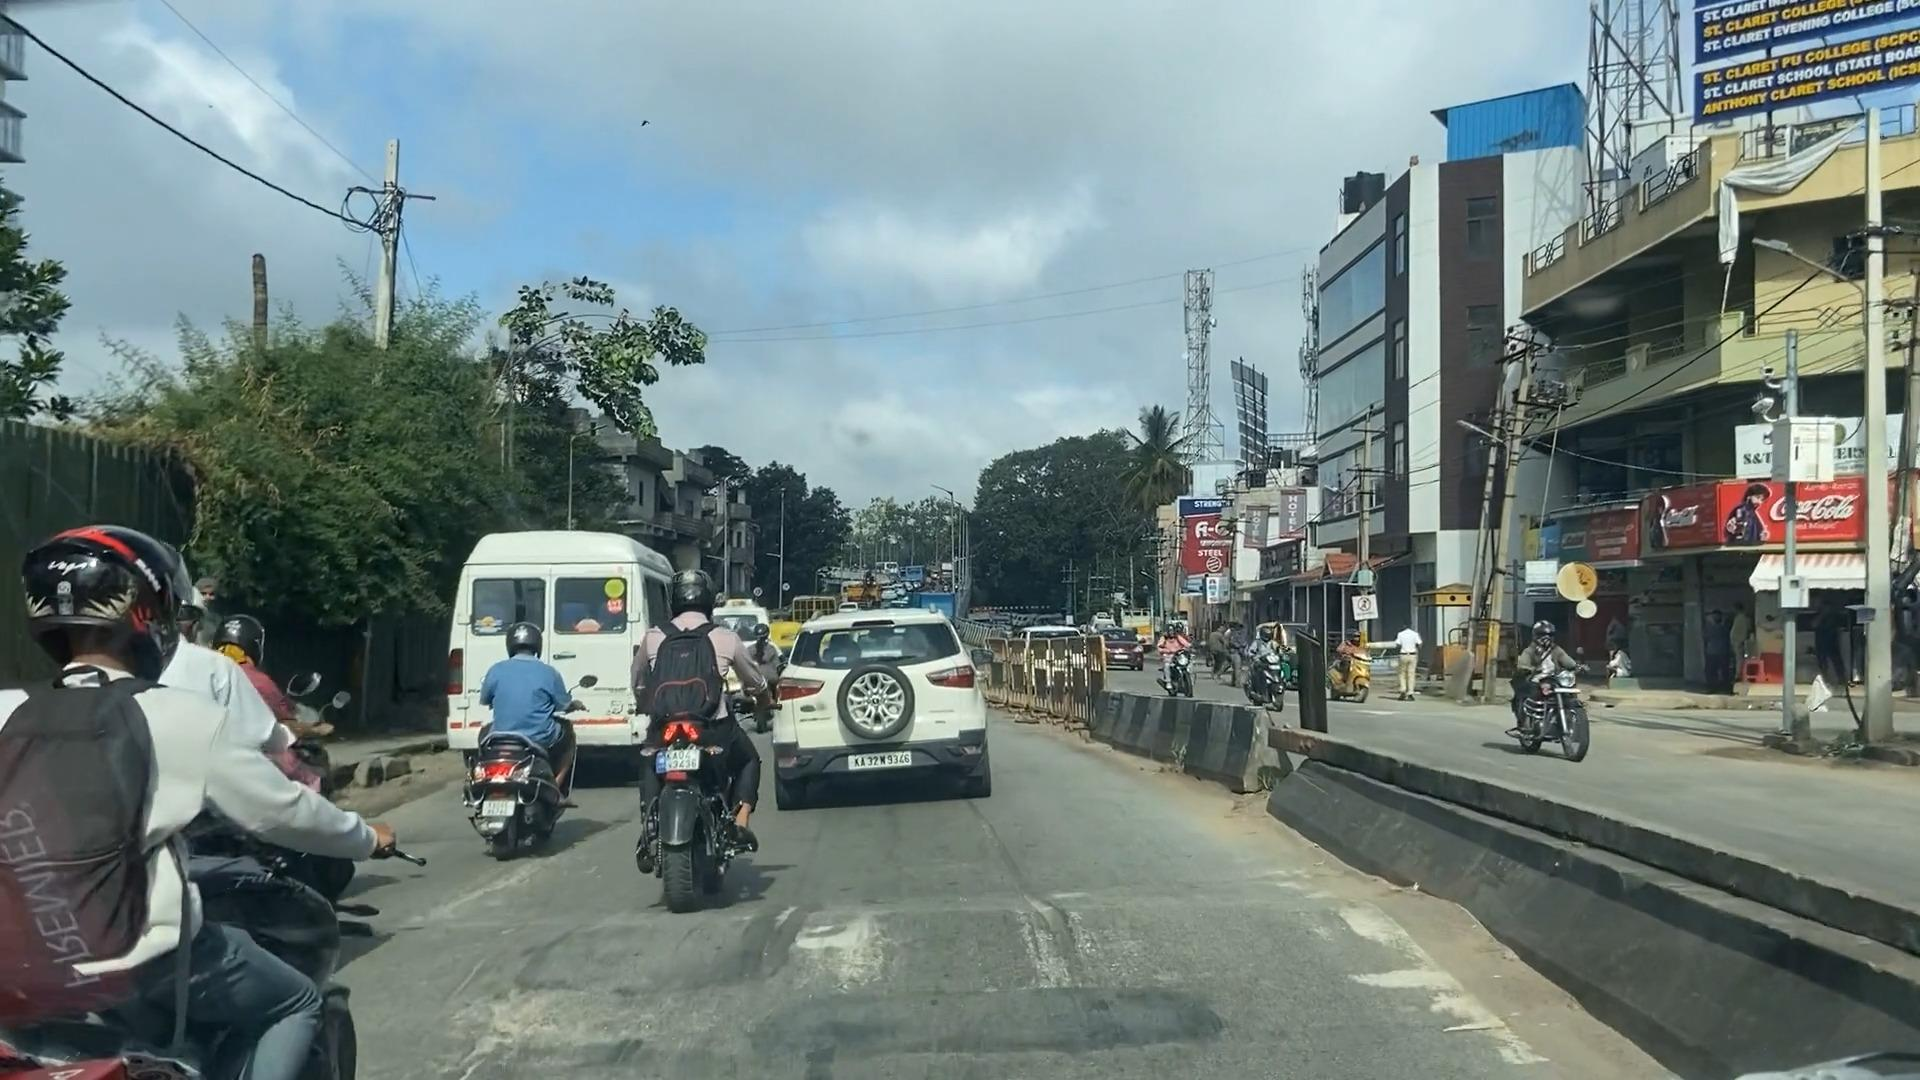HMV: (464, 541, 651, 757)
LMV: (622, 574, 758, 901), (777, 616, 992, 804), (476, 636, 566, 839)
SpeedBump: (418, 878, 1534, 1023)
